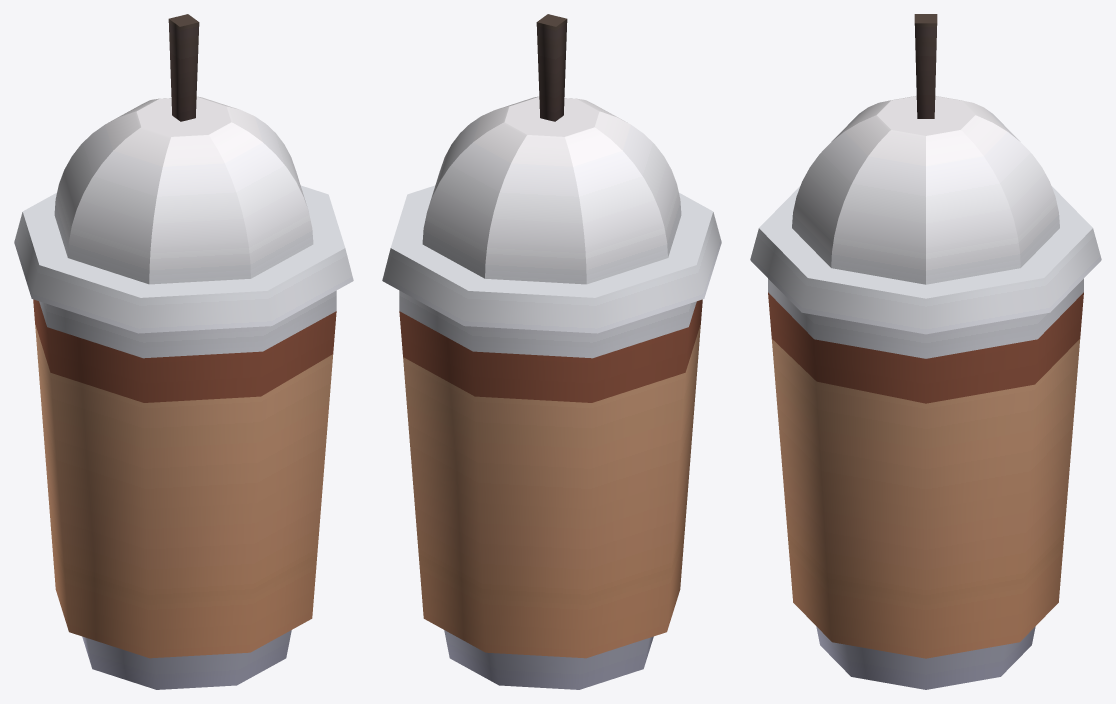
File: frappe.glb
3 renders of one model, left to right at view 1: azimuth 30°, elevation 25°; view 2: azimuth 150°, elevation 25°; view 3: azimuth 270°, elevation 25°, orthographic.
Parts seen in each view (by area): view 1: frappe; view 2: frappe; view 3: frappe.
Boxes of the visible parts, x1,y1,x2,y2 form: frappe: (14, 14, 353, 689); frappe: (382, 14, 721, 689); frappe: (750, 14, 1101, 689).
Size of the model in its own units: 0.2541 by 0.4993 by 0.2541.
1 material, 1 textured.
